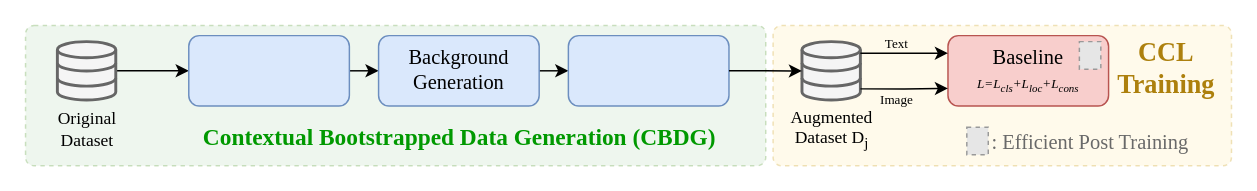
Some shapes in this 1257 by 191 pixel diagram are drawn without their labels. Grey dashed boxes stand in for pictures. Each missing label, with the centre of its shape:
Background Replacement: (648,70)
Categorical Augmentation: (268,70)
